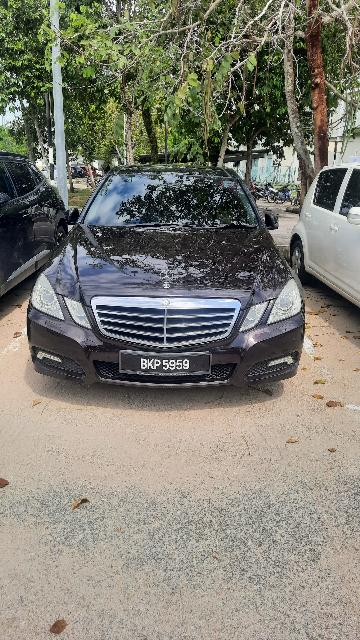License_Plate: (116, 348, 217, 383)
car: (26, 157, 308, 395)
